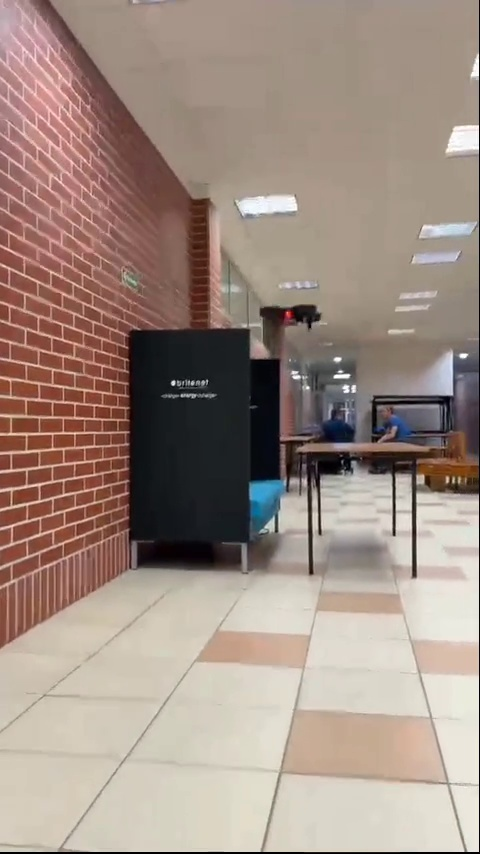drone: (257, 302, 319, 330)
no vest: (372, 396, 410, 444), (322, 401, 346, 439)
